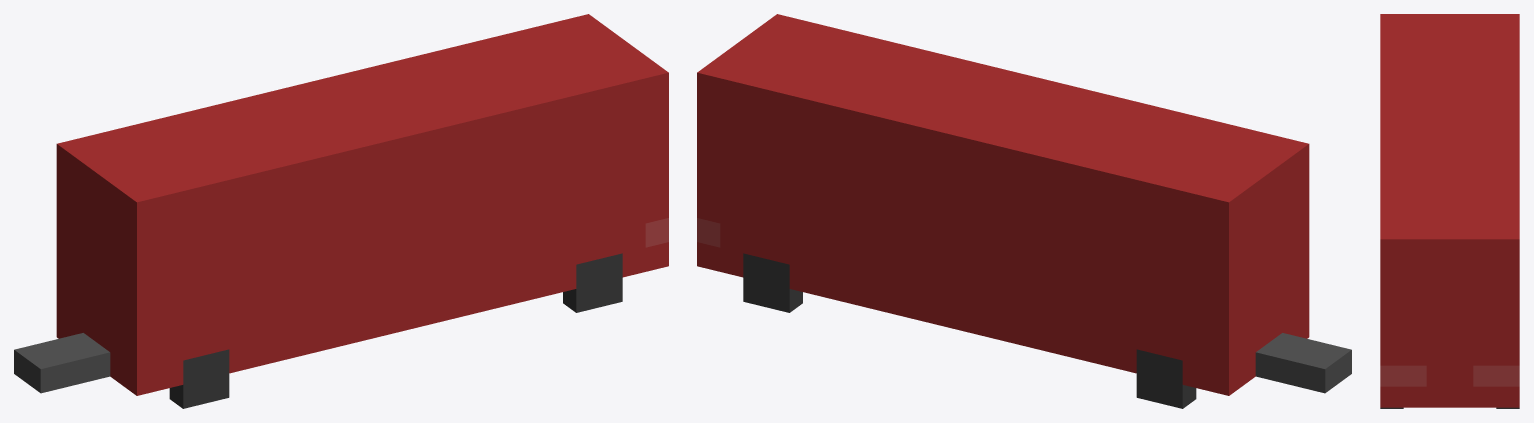
Rendered from truck-trailer-v1-red.gltf.
3 renders of one model, left to right at view 1: azimuth 30°, elevation 25°; view 2: azimuth 150°, elevation 25°; view 3: azimuth 270°, elevation 25°, orthographic. The views are drawn at different scales.
Visible parts, largest first — view 1: model, wheels; view 2: model, wheels; view 3: model.
Part boxes in pixels (x1,y1,x2,y2): model: (14, 14, 668, 395); wheels: (169, 253, 622, 408); model: (697, 14, 1351, 395); wheels: (743, 253, 1196, 408); model: (1380, 14, 1519, 407).
Size of the model in its own units: 2.6 by 0.9 by 0.6.
2 materials, 2 textured.
